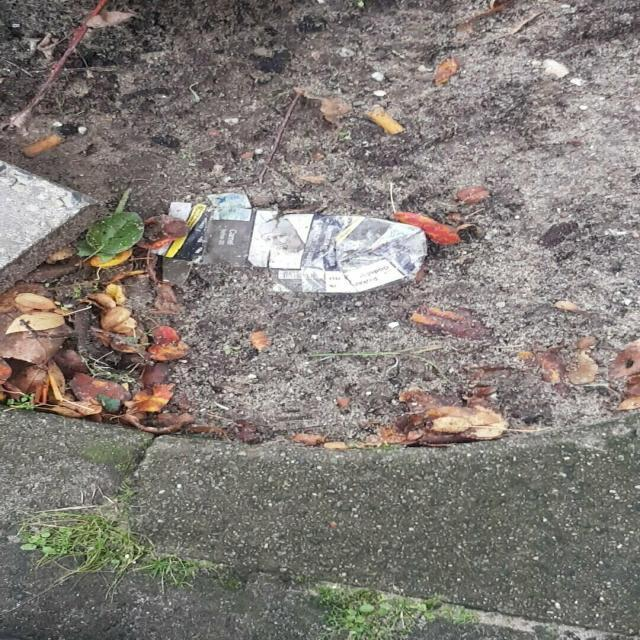Paper: (147, 188, 430, 296)
